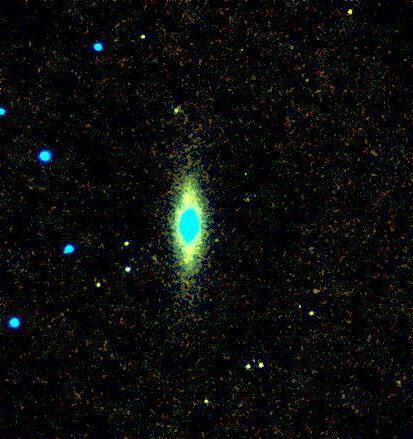star: (337, 0, 367, 26)
